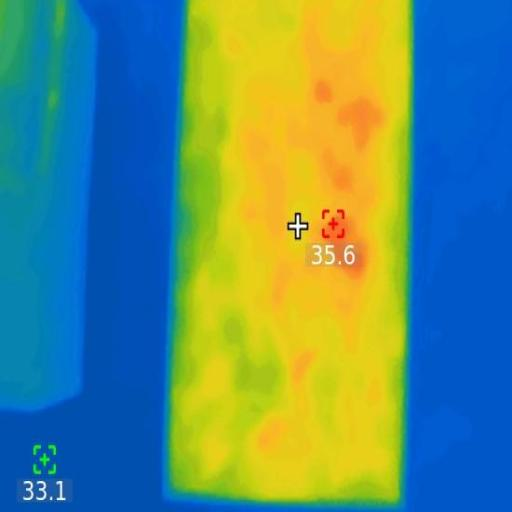hotspot: (328, 223, 363, 272)
